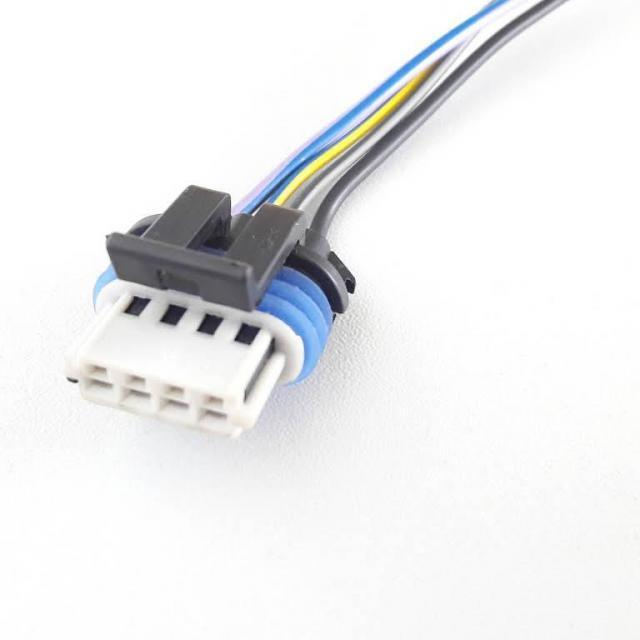connector: (59, 166, 368, 455)
